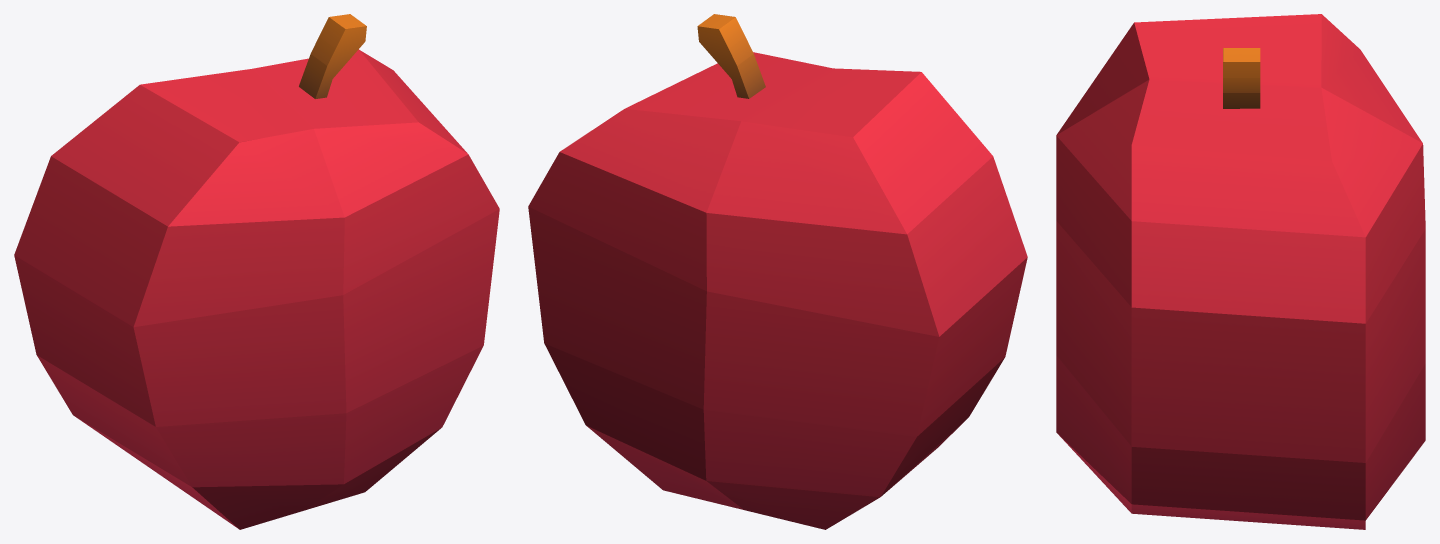
The model's file is Apple.glb.
3 views of the same model, side by side, from view 1: azimuth 30°, elevation 25°; view 2: azimuth 150°, elevation 25°; view 3: azimuth 270°, elevation 25° (orthographic). The views are drawn at different scales.
Visible parts, largest first — view 1: Cube, Cube.001; view 2: Cube, Cube.001; view 3: Cube, Cube.001.
Part boxes in pixels (x1,y1,x2,y2): Cube: [14, 49, 499, 529]; Cube.001: [299, 14, 366, 98]; Cube: [528, 52, 1027, 529]; Cube.001: [697, 14, 765, 98]; Cube: [1056, 14, 1425, 529]; Cube.001: [1223, 48, 1260, 108].
Bounding box in the file's own units: 2.52 × 2.51 × 1.76.
2 materials, 2 textured.
